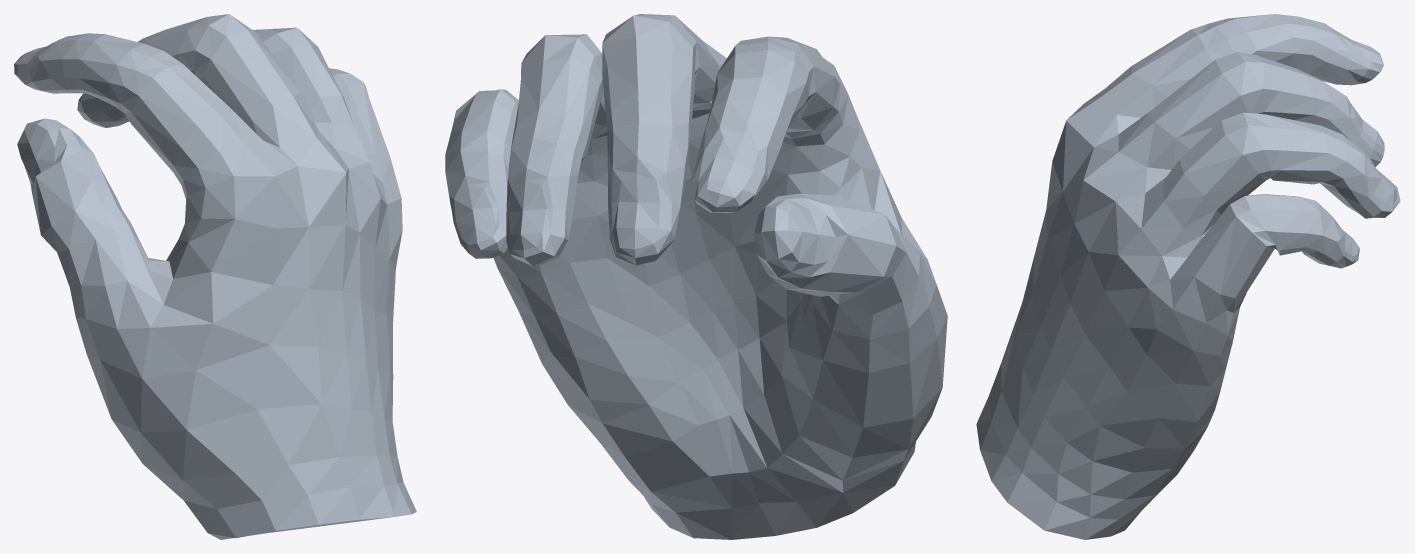
The model's file is hand_registered.glb.
3 renders of one model, left to right at view 1: azimuth 30°, elevation 25°; view 2: azimuth 150°, elevation 25°; view 3: azimuth 270°, elevation 25°, orthographic. The views are drawn at different scales.
Parts seen in each view (by area): view 1: 325_cropped_hoi_1_0.obj; view 2: 325_cropped_hoi_1_0.obj; view 3: 325_cropped_hoi_1_0.obj.
Boxes of the visible parts, x1,y1,x2,y2 form: 325_cropped_hoi_1_0.obj: [14, 14, 416, 539]; 325_cropped_hoi_1_0.obj: [445, 14, 947, 539]; 325_cropped_hoi_1_0.obj: [976, 14, 1400, 539].
Size of the model in its own units: 0.2067 by 0.2715 by 0.2299.
